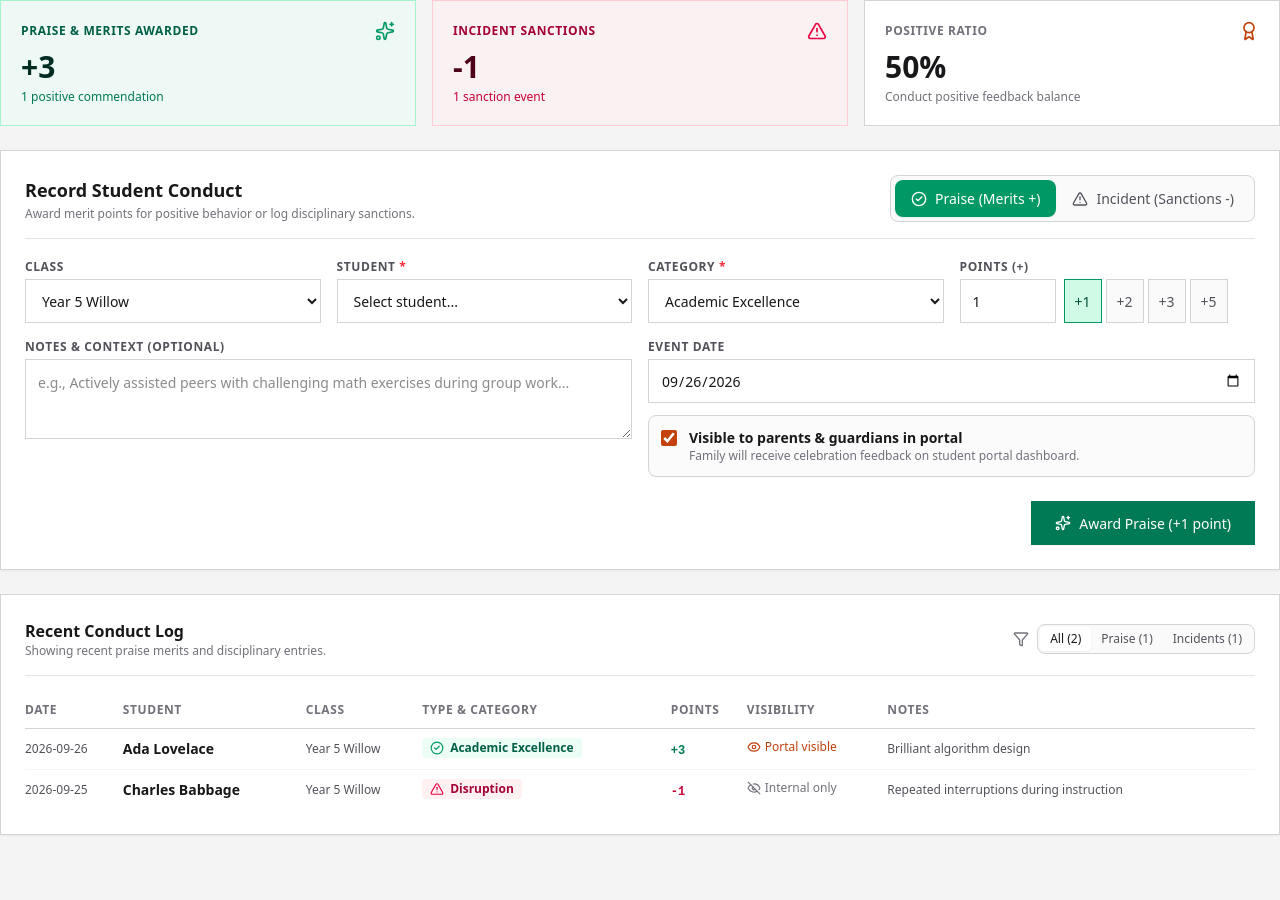
TeacherBehaviourPanel component › filters the conduct log by praise only and incidents only
expect the text "Ada Lovelace" is shown: met, box [123,728,306,770]
expect the text "Charles Babbage" is shown: met, box [123,770,306,810]
# Filter to Praise only
Click the button "Praise (1)". click: (1127, 639)
box: [1091,627,1163,651]
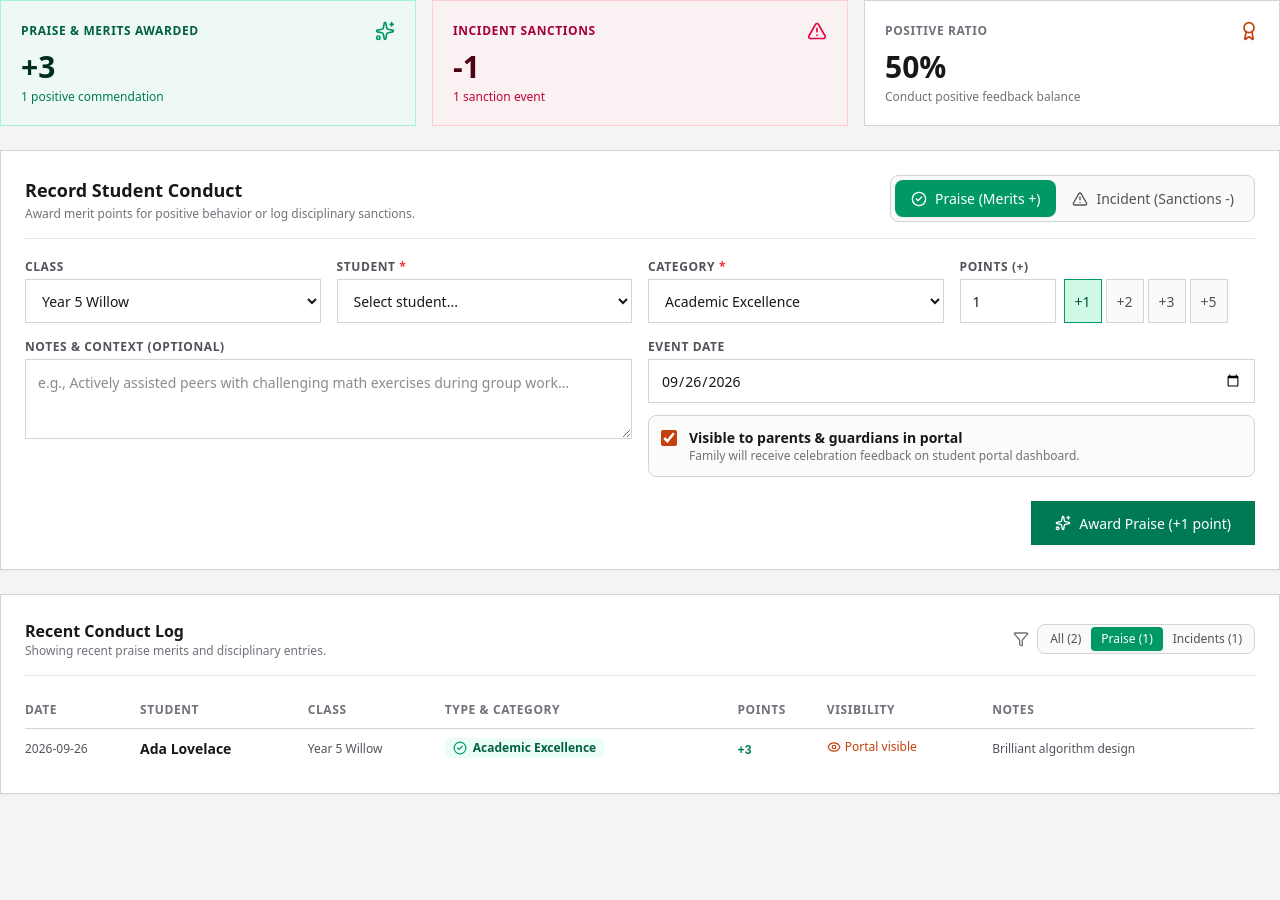
expect the text "Ada Lovelace" is shown: met, box [140,728,308,769]
expect the text "Charles Babbage" is gone: met
# Filter to Incidents only
Click the button "Incidents (1)". click: (1207, 639)
box: [1163,627,1252,651]
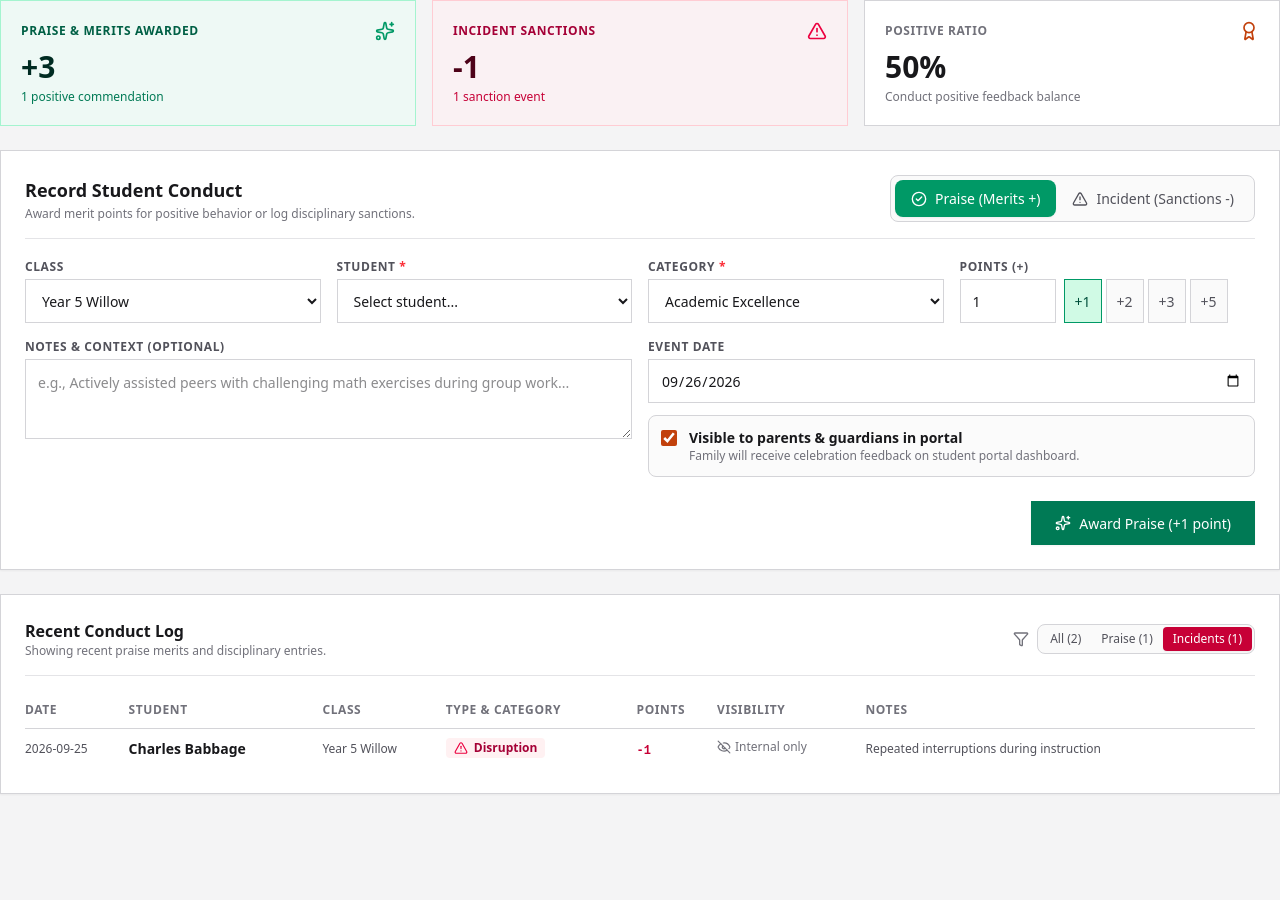
expect the text "Ada Lovelace" is gone: met
expect the text "Charles Babbage" is shown: met, box [128,728,322,769]
